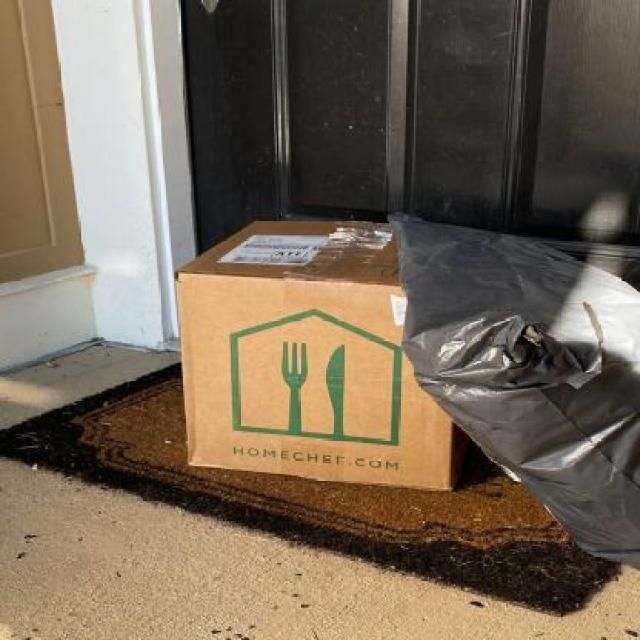box: (174, 216, 459, 497)
